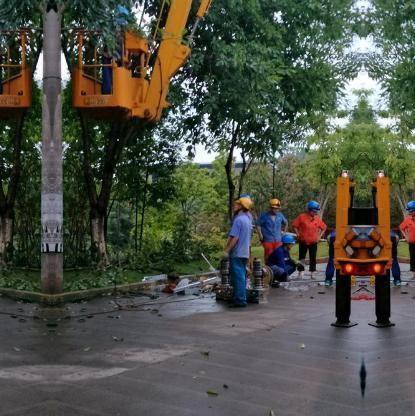helmet: (229, 196, 253, 213), (304, 199, 322, 215), (268, 198, 282, 210)
